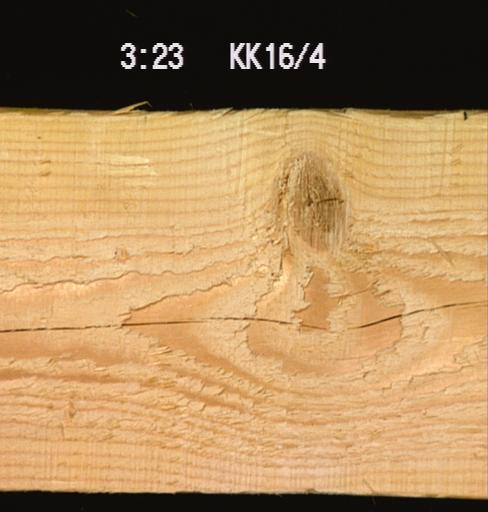sound_knot: (273, 149, 348, 254)
split: (0, 297, 487, 338), (324, 279, 394, 300)
wave: (0, 106, 263, 139), (343, 109, 486, 131)
